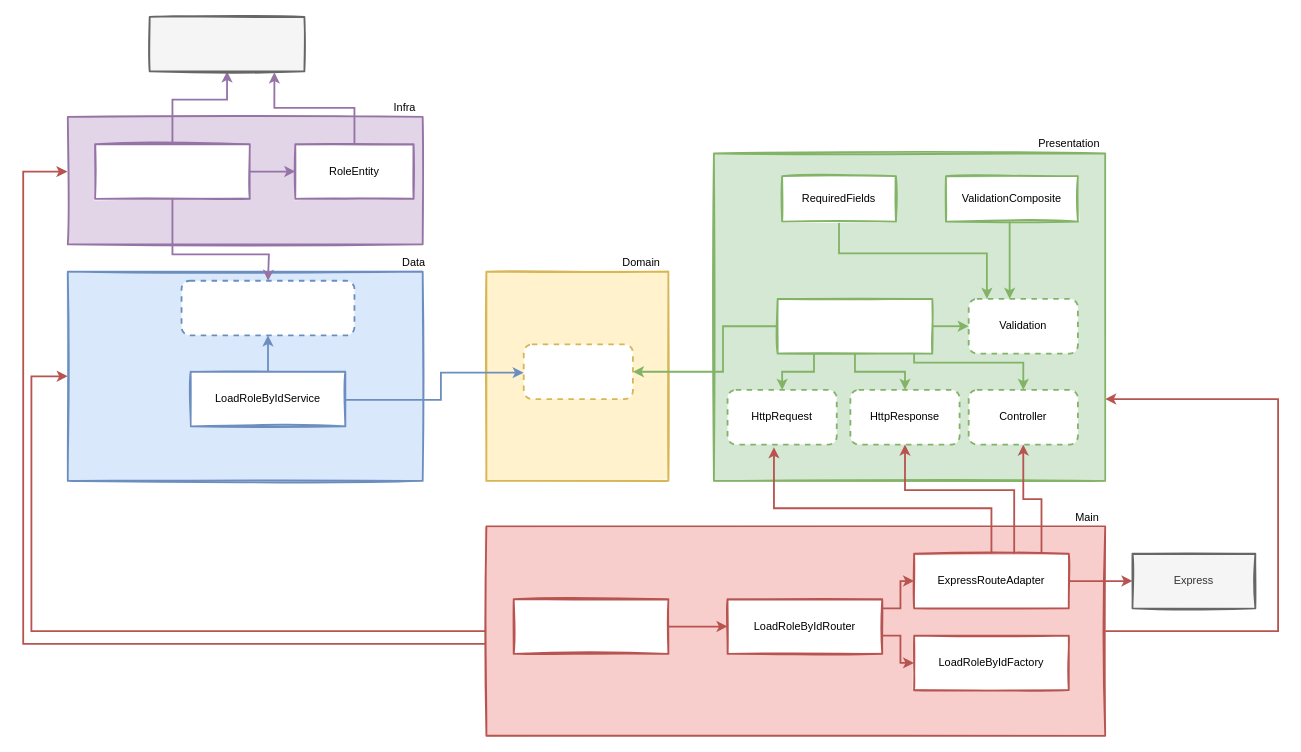
Some shapes in this 1301 by 752 pixel diagram are drawn without their labels. The shapes that lost their labels are listed below. From the top down, each one's box as (x1, y1, x2, y2) in pixels, then its label:
(148, 15, 305, 72): TypeOrm
(94, 143, 250, 199): RolePgRepository
(180, 279, 355, 336): LoadRoleByIdRepository
(776, 298, 933, 354): LoadRoleByIdController
(522, 343, 633, 399): LoadRoleById
(512, 598, 669, 654): App
